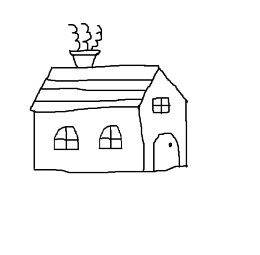closed_window: (43, 125, 86, 155), (94, 122, 128, 158), (151, 91, 176, 119)
door: (150, 128, 182, 178)
roof: (21, 57, 190, 115)
smoking_chimney: (54, 10, 113, 70)
wall: (28, 102, 148, 176)
